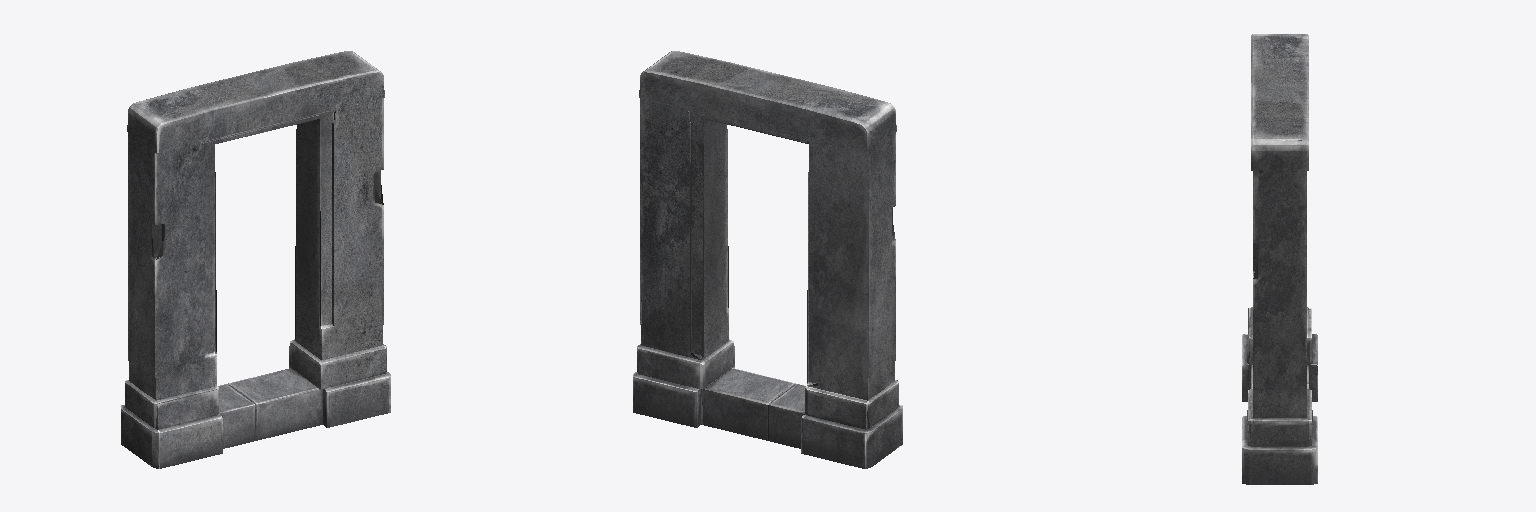
The picture shows the model from 3 angles: view 1: azimuth 30°, elevation 25°; view 2: azimuth 150°, elevation 25°; view 3: azimuth 270°, elevation 25°; orthographic projection.
Visible parts, largest first — view 1: Cube_Cube; view 2: Cube_Cube; view 3: Cube_Cube.
Part boxes in pixels (left/top/right/bottom): Cube_Cube: left=121, top=51, right=390, bottom=468; Cube_Cube: left=633, top=51, right=902, bottom=468; Cube_Cube: left=1242, top=34, right=1317, bottom=484.
Bounding box in the file's own units: 3.72 × 5.11 × 1.03.
Materials: 1 (1 with a texture image).